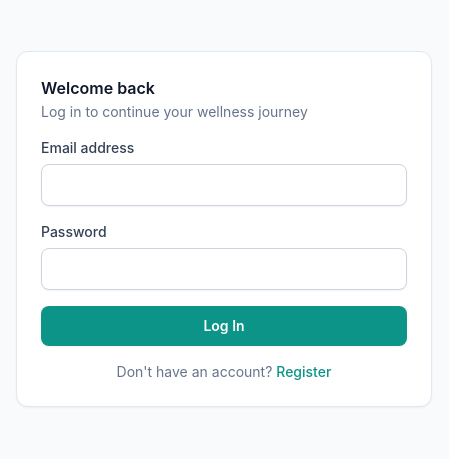
Login page › shows an error message when login fails
Type "user@example.com" into the field labelled "Email address" at coordinates (224, 184), box x1=41 y1=164 x2=407 y2=206
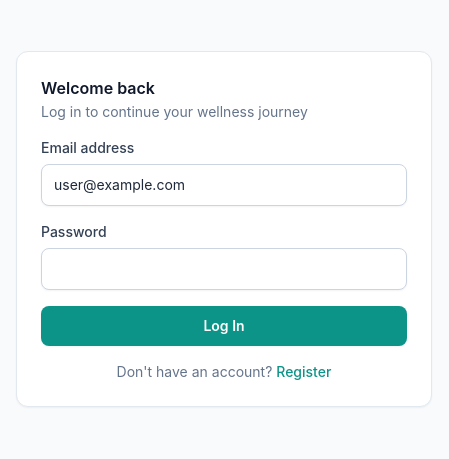
Type "wrongpass" into the password field labelled "Password" at coordinates (224, 268), box x1=41 y1=248 x2=407 y2=290
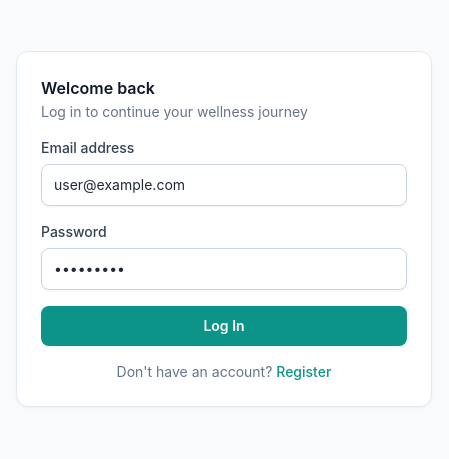
Click the button "Log In" at coordinates (224, 326), box x1=41 y1=306 x2=407 y2=346
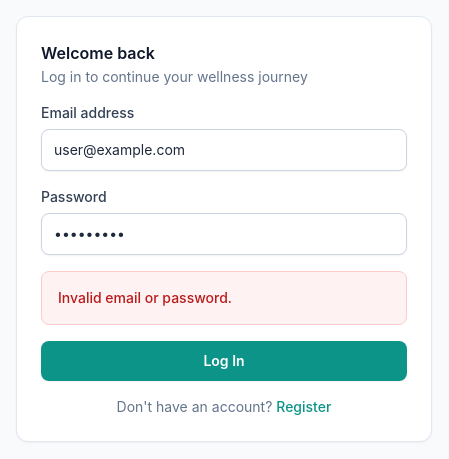
Expected: the text "Invalid email or password." is shown, x1=58 y1=288 x2=232 y2=306
